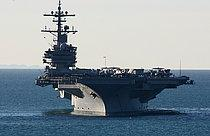MIL_Ship: (34, 0, 195, 117)
